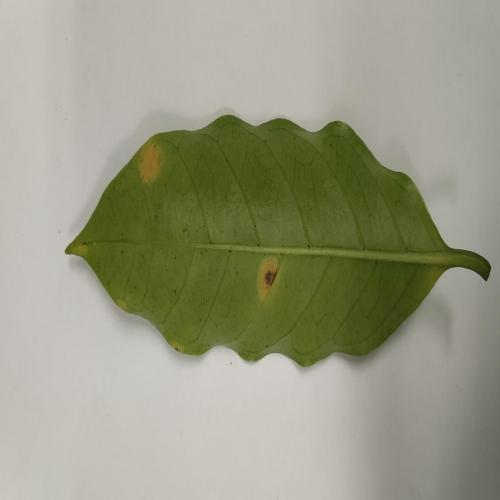phoma: (139, 141, 161, 183)
